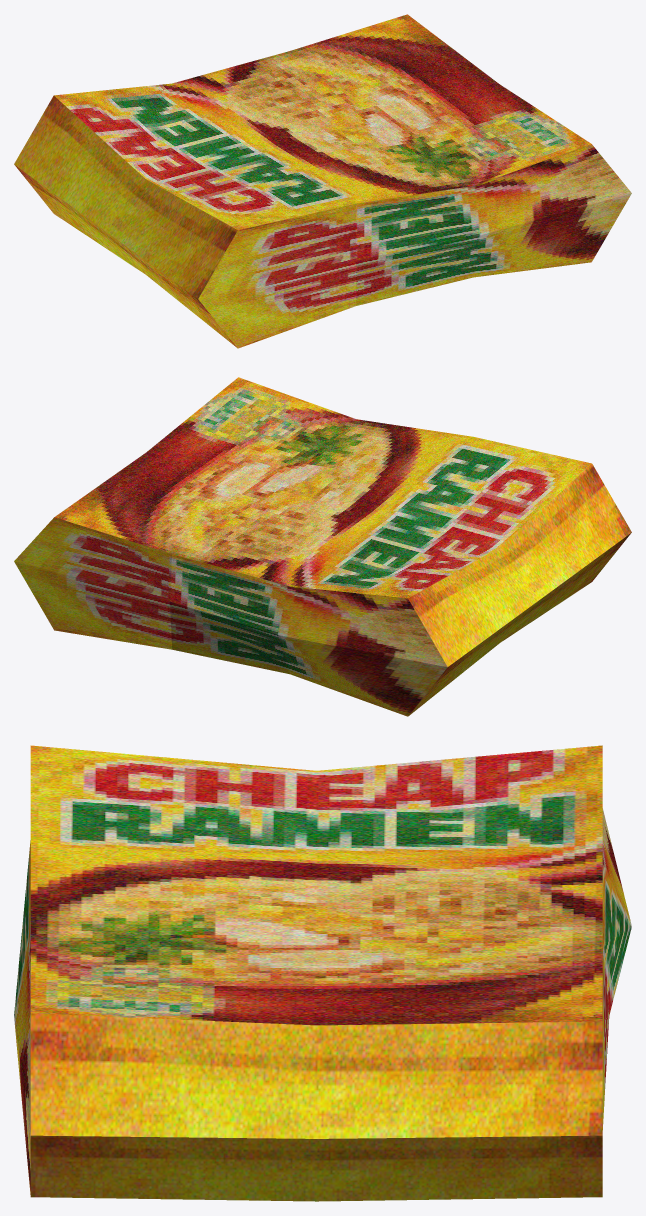
The model's file is cheap_ramen.fbx.
3 renders of one model, top to bottom at view 1: azimuth 30°, elevation 25°; view 2: azimuth 150°, elevation 25°; view 3: azimuth 270°, elevation 25°, orthographic. The views are drawn at different scales.
Parts seen in each view (by area): view 1: ramen01; view 2: ramen01; view 3: ramen01.
Part boxes in pixels (x1=…): ramen01: x1=14, y1=14, x2=631, y2=348; ramen01: x1=14, y1=377, x2=631, y2=716; ramen01: x1=14, y1=745, x2=631, y2=1201.
Bounding box in the file's own units: 28.66 × 7.58 × 22.56.
